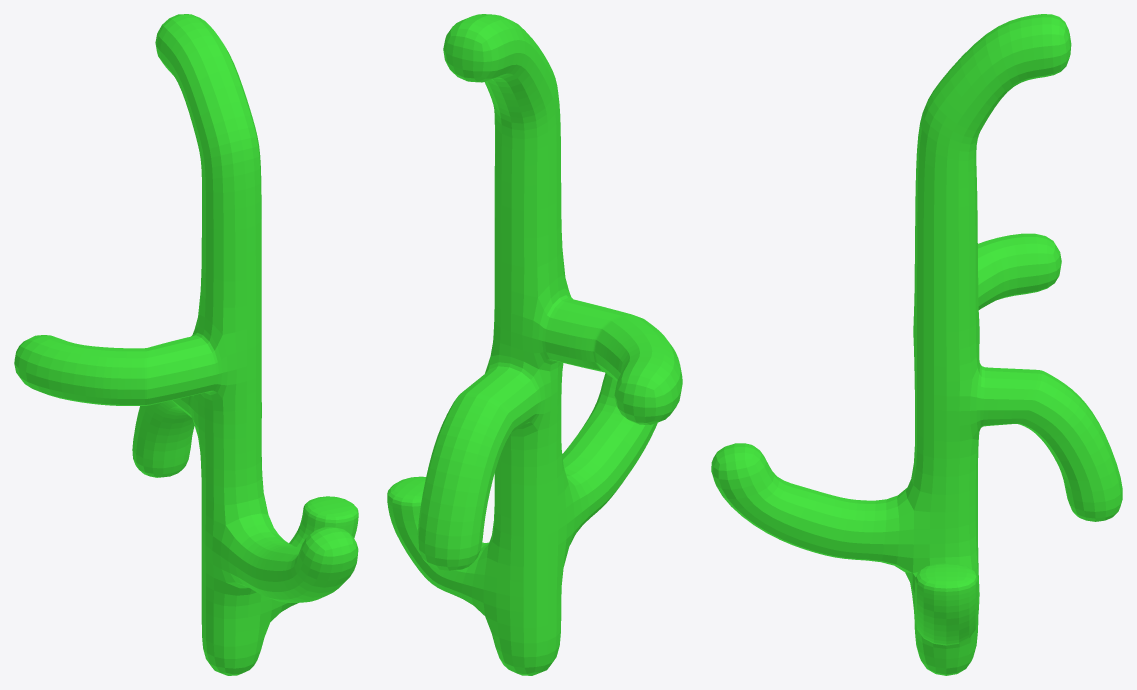
Rendered from AlienObject1.fbx.
The picture shows the model from 3 angles, left to right: view 1: azimuth 30°, elevation 25°; view 2: azimuth 150°, elevation 25°; view 3: azimuth 270°, elevation 25°; orthographic projection. The views are drawn at different scales.
Visible parts, largest first — view 1: Cube; view 2: Cube; view 3: Cube.
Boxes of the visible parts, x1,y1,x2,y2 form: Cube: (14, 14, 358, 675); Cube: (387, 14, 682, 675); Cube: (711, 14, 1122, 675).
Bounding box in the file's own units: 1046 × 2111 × 1201.
